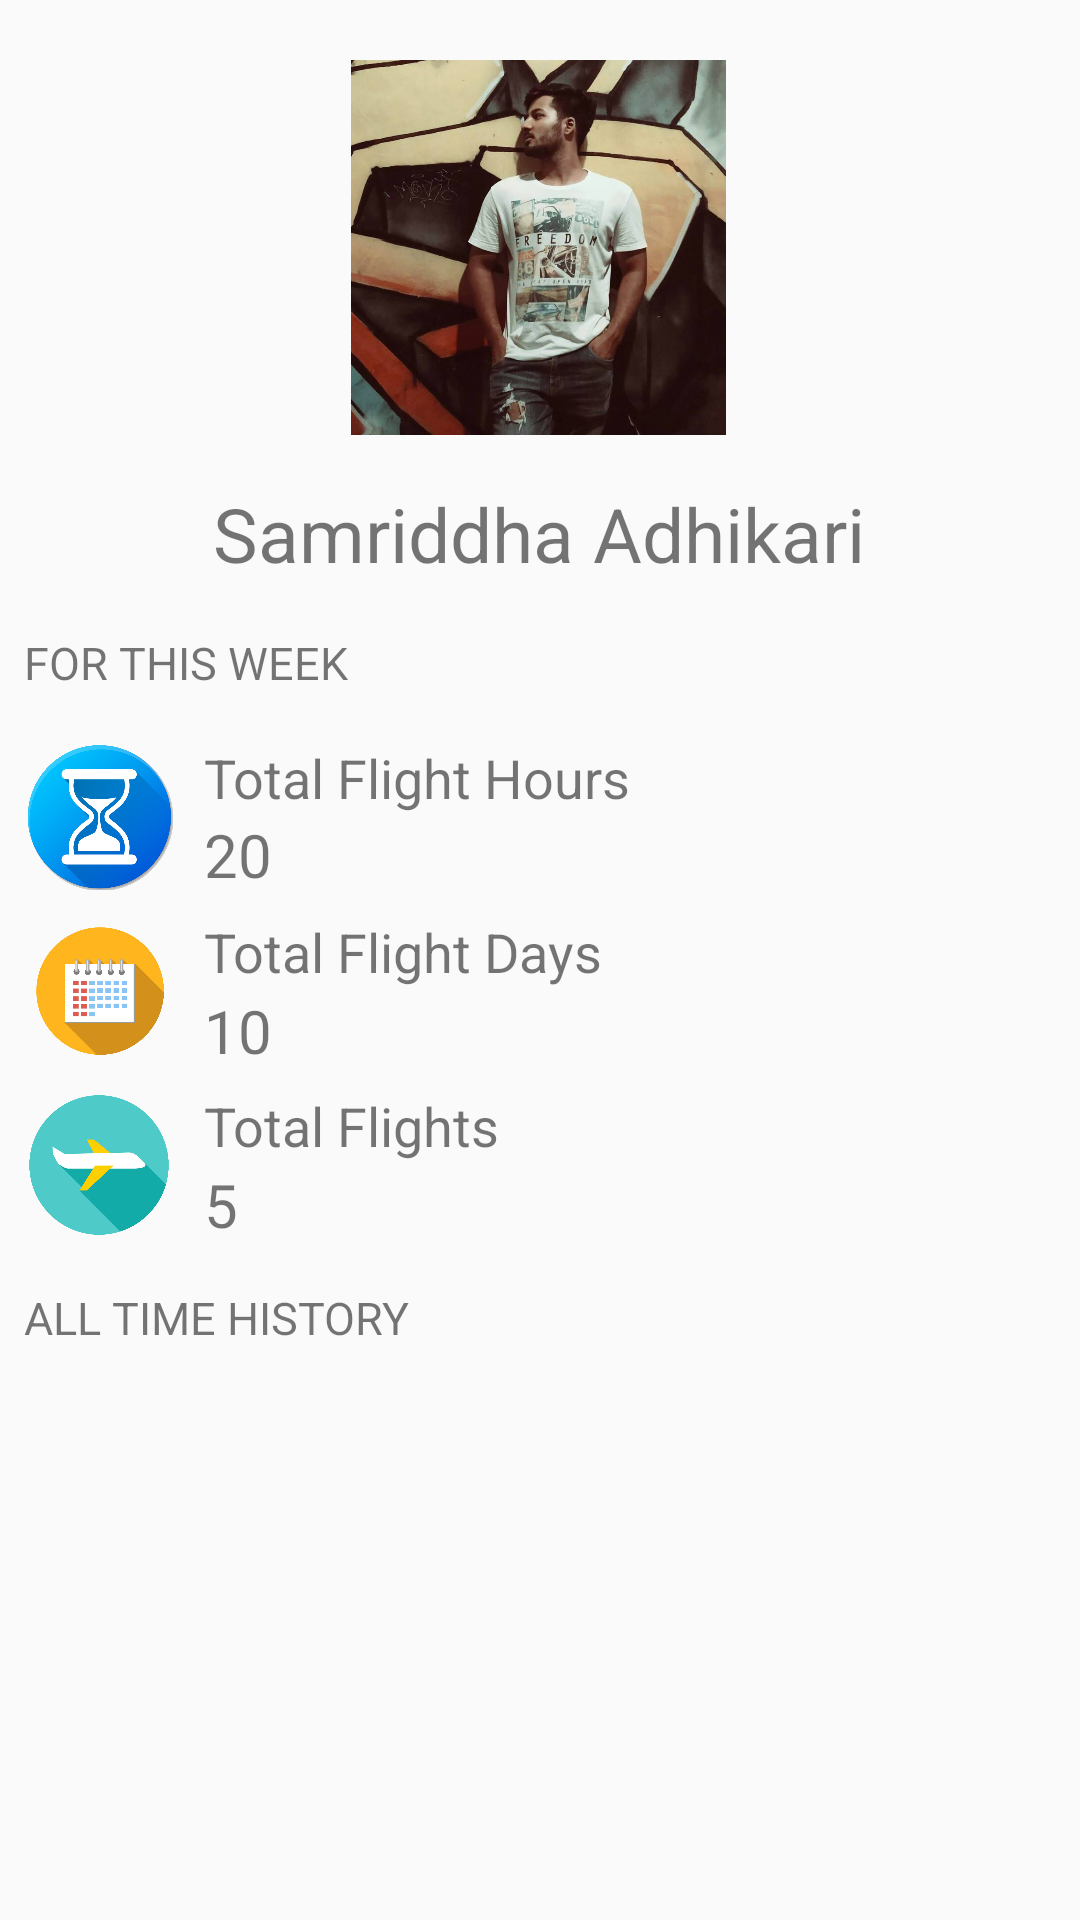

Locate icon controls on the screen. Image size 1080w x 1920h, boxes as bbox=[x1, y1, x2, y2].
airplane: bbox=[29, 1095, 169, 1235]
calendar: bbox=[36, 927, 164, 1055]
timing: bbox=[28, 745, 173, 890]
